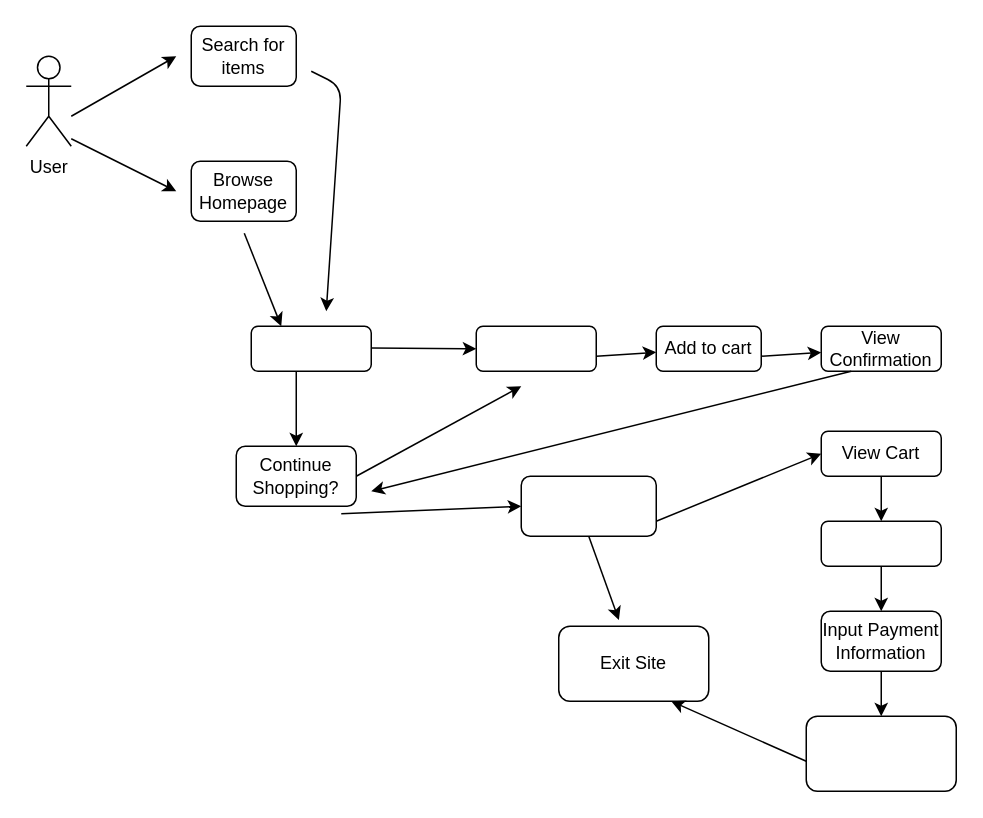
Some shapes in this 983 by 818 pixel diagram are drawn without their labels. The shapes that lost their labels are listed below. From the top down, each one's centre as x and y in pixels, then its label:
the point at 310,348: View product listings
the point at 535,348: View Specific Product Page
the point at 588,505: Checkout
the point at 880,543: View Payment
the point at 880,753: Order Confirmation Screen + Email
